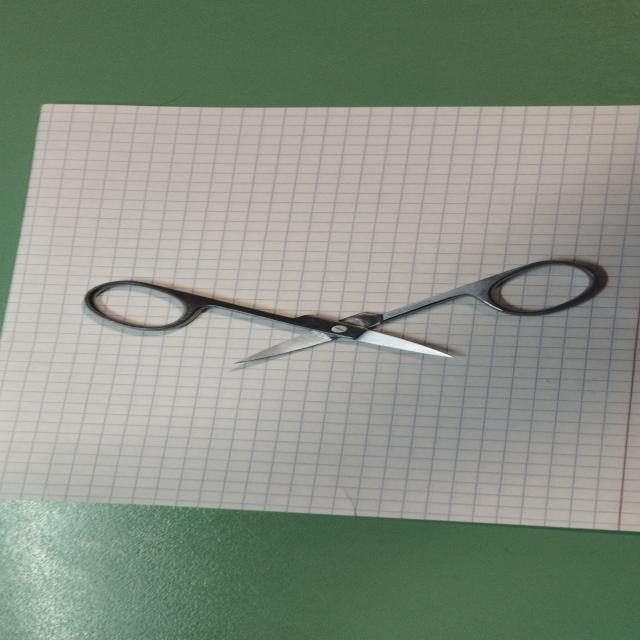tesoura: (78, 252, 616, 366)
